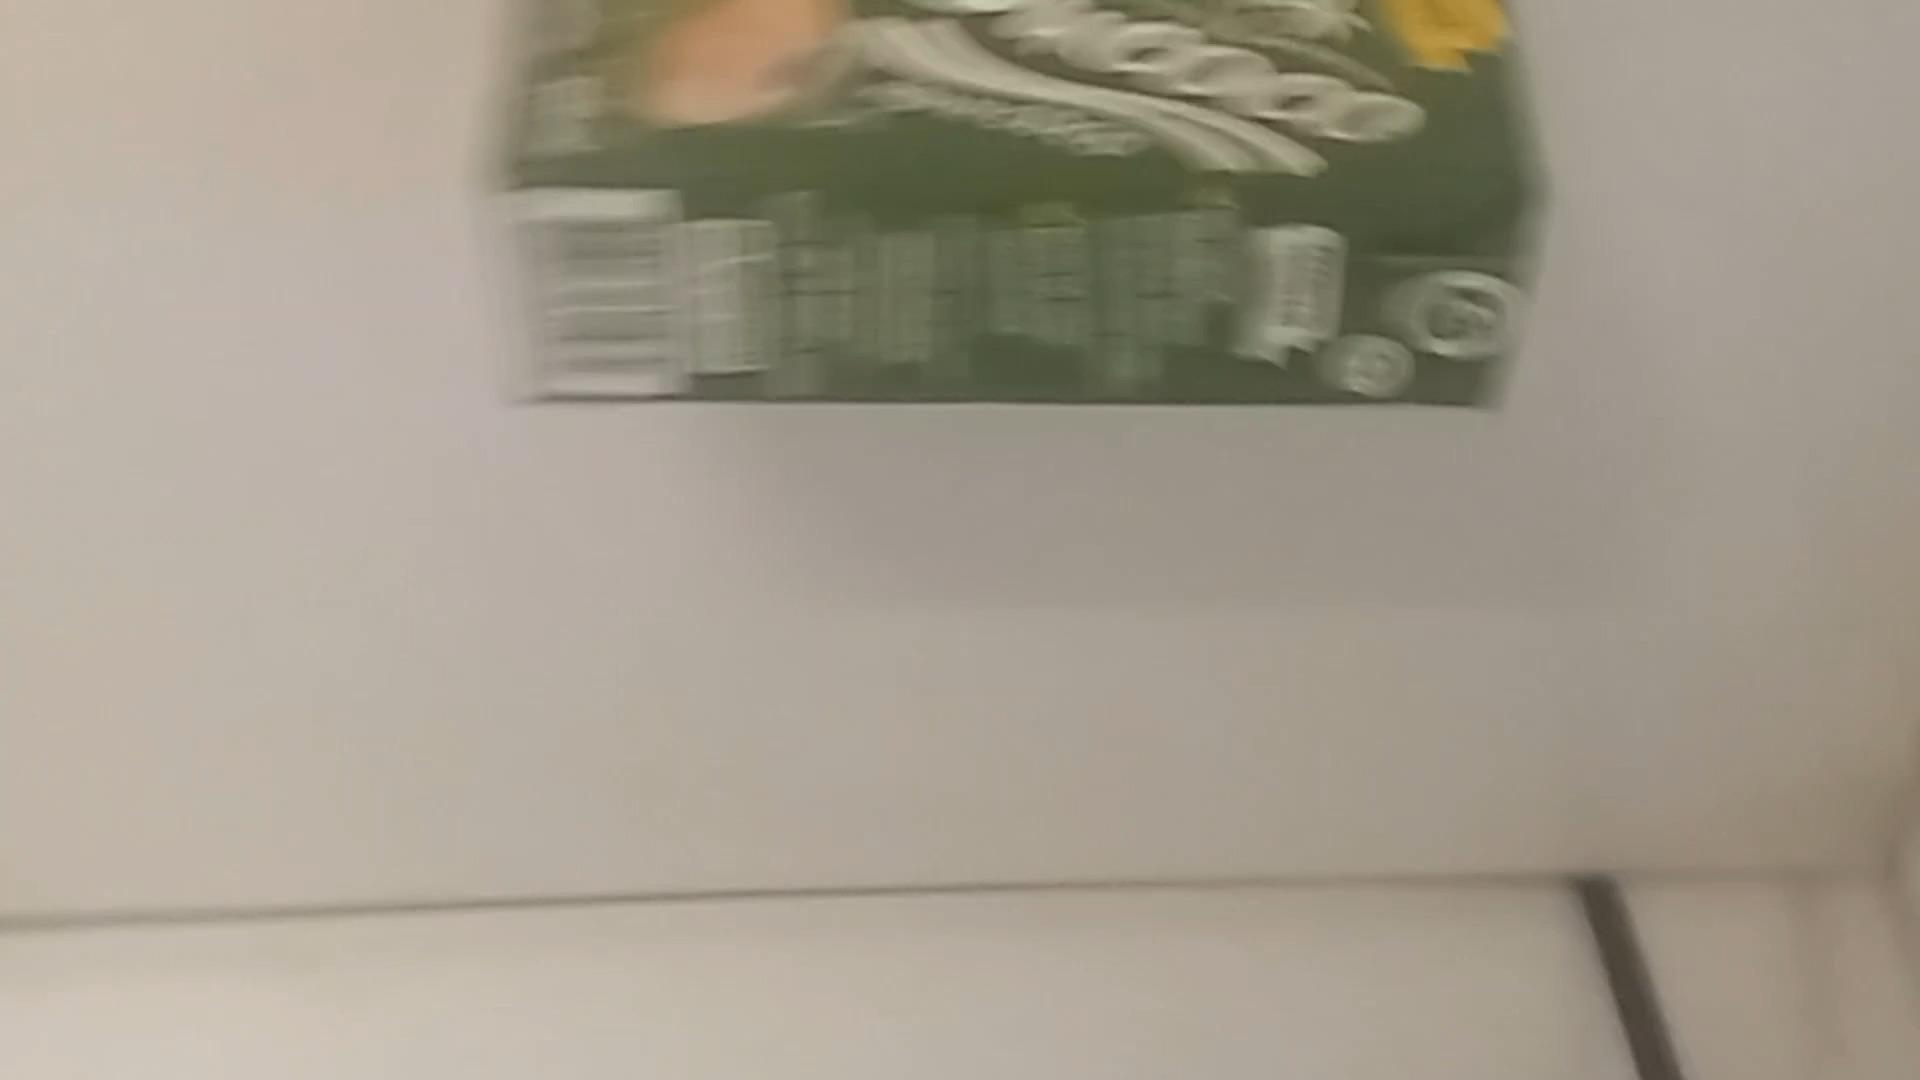coco: (480, 0, 1605, 425)
